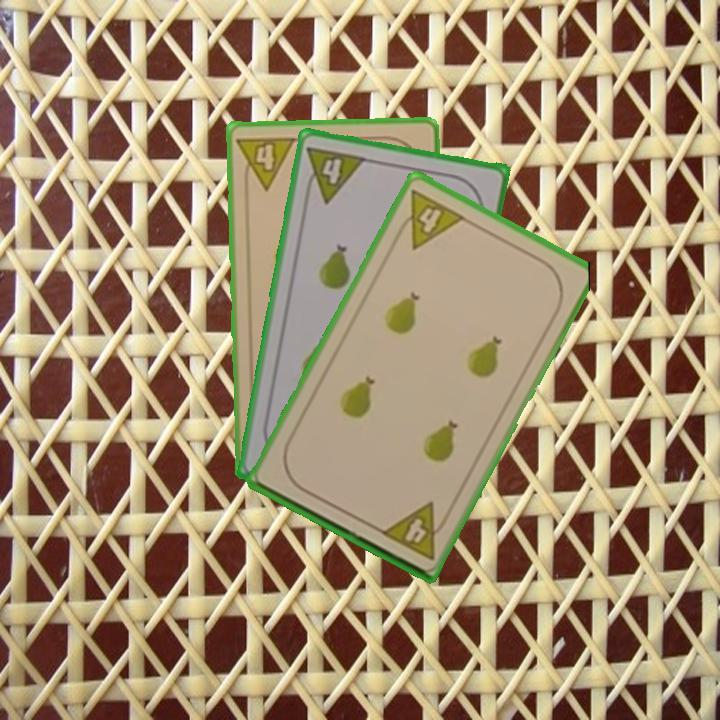4p: (390, 185, 468, 252), (377, 498, 453, 563), (300, 142, 369, 206), (234, 132, 299, 193)
